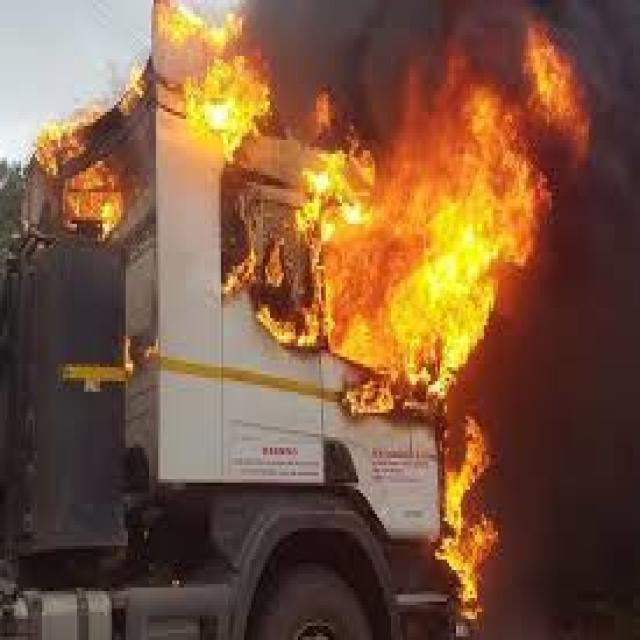Fire: (312, 141, 473, 416), (476, 80, 548, 276), (170, 0, 262, 145), (442, 426, 495, 612), (550, 38, 582, 146)
Smoke: (500, 294, 640, 636), (271, 0, 470, 112), (558, 160, 636, 287)
